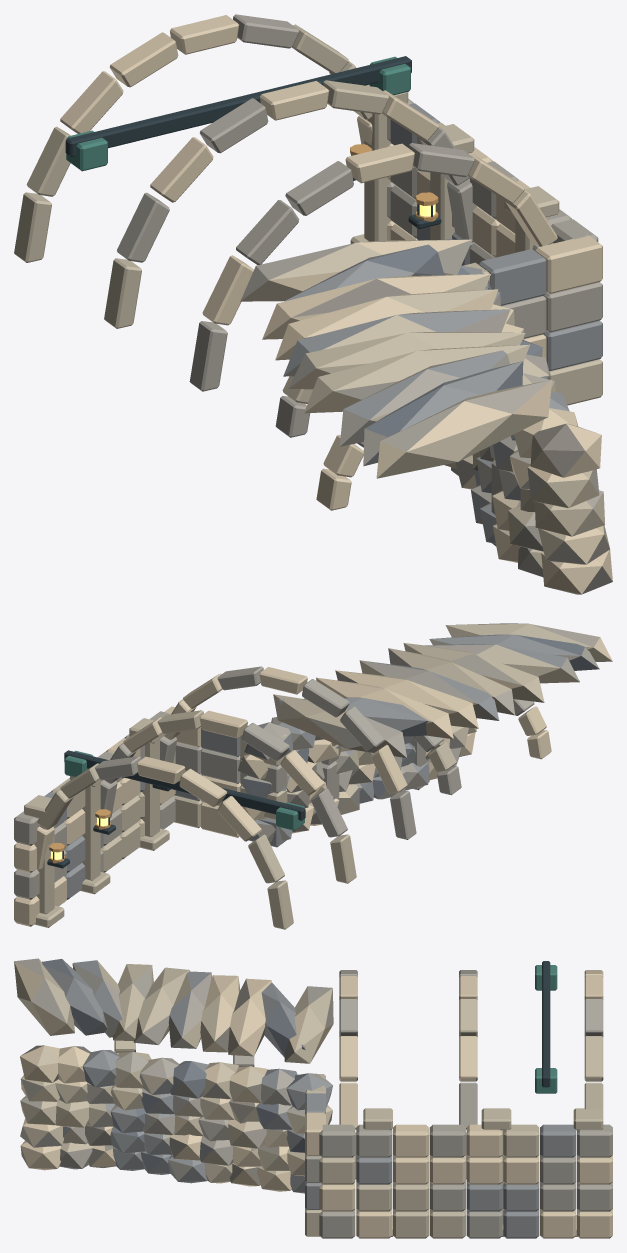
File: voutes_crypte.glb
The picture shows the model from 3 angles, top to bottom: view 1: azimuth 30°, elevation 25°; view 2: azimuth 150°, elevation 25°; view 3: azimuth 270°, elevation 25°; orthographic projection. The views are drawn at different scales.
Visible parts, largest first — view 1: voutes_crypte; view 2: voutes_crypte; view 3: voutes_crypte.
Part boxes in pixels (x1=…): voutes_crypte: x1=14, y1=14, x2=612, y2=594; voutes_crypte: x1=14, y1=623, x2=612, y2=929; voutes_crypte: x1=14, y1=958, x2=612, y2=1238.
Bounding box in the file's own units: 9.96 × 6 × 16.93.
